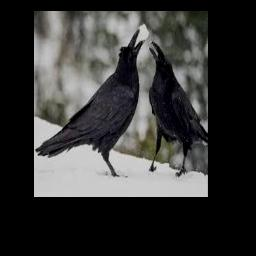Crow: (35, 28, 145, 177), (147, 41, 208, 178)
